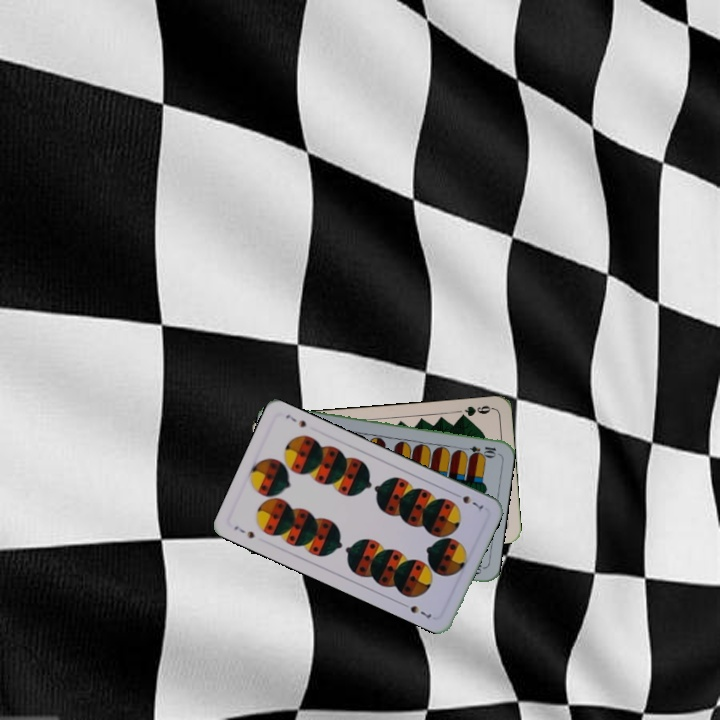E10: (458, 442, 498, 458)
G9: (455, 401, 495, 421)
S7: (450, 489, 486, 512), (230, 522, 257, 541)
